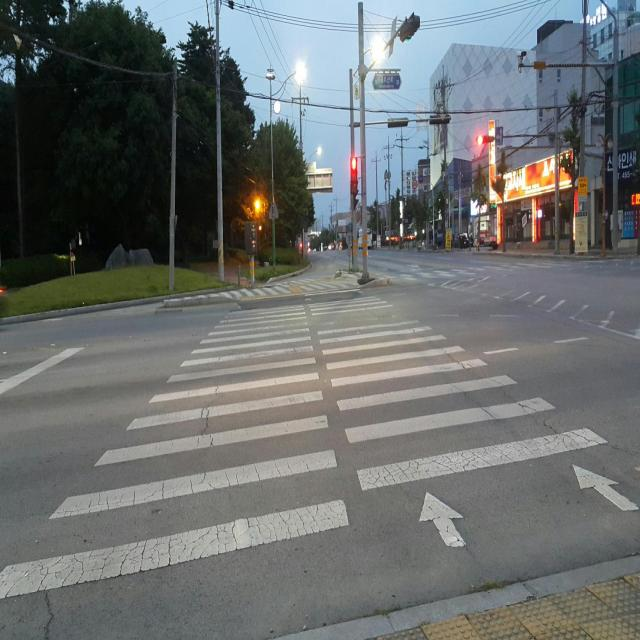빨간불: (350, 156, 360, 193)
횡단보도: (1, 296, 638, 601)
